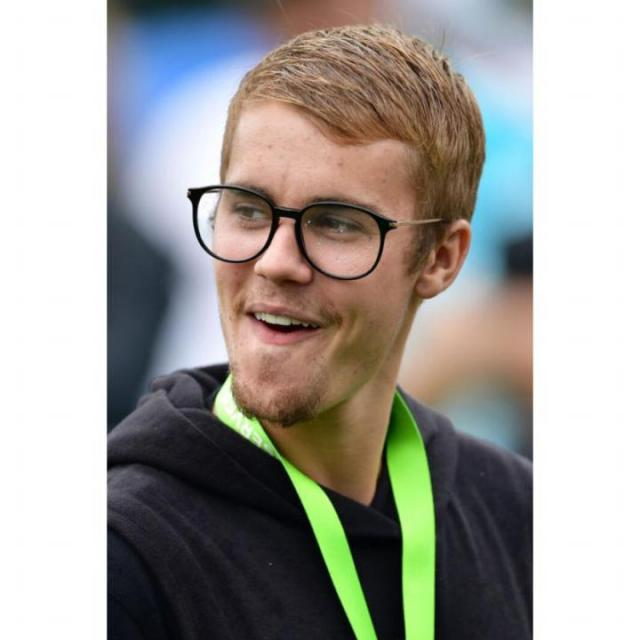live: (208, 109, 412, 424)
